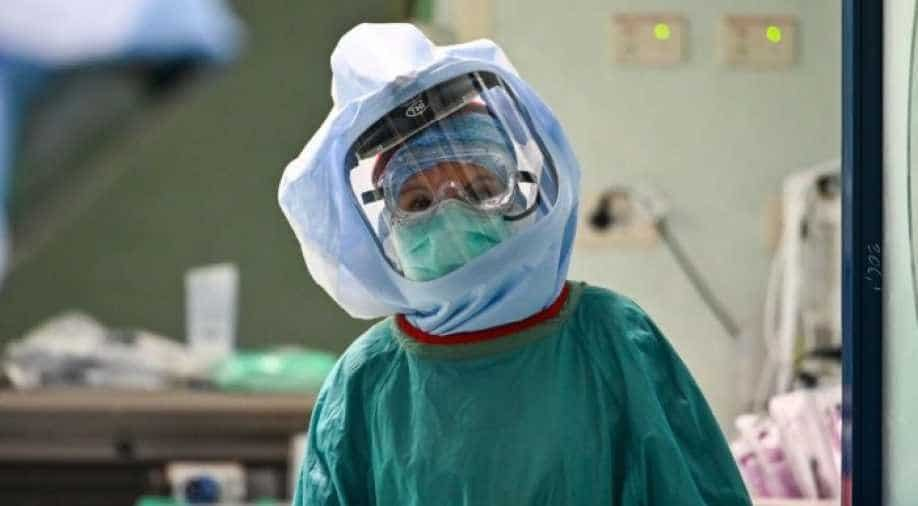Coverall: (278, 16, 763, 506)
Goggles: (369, 135, 526, 218)
with_mask: (395, 180, 507, 277)
